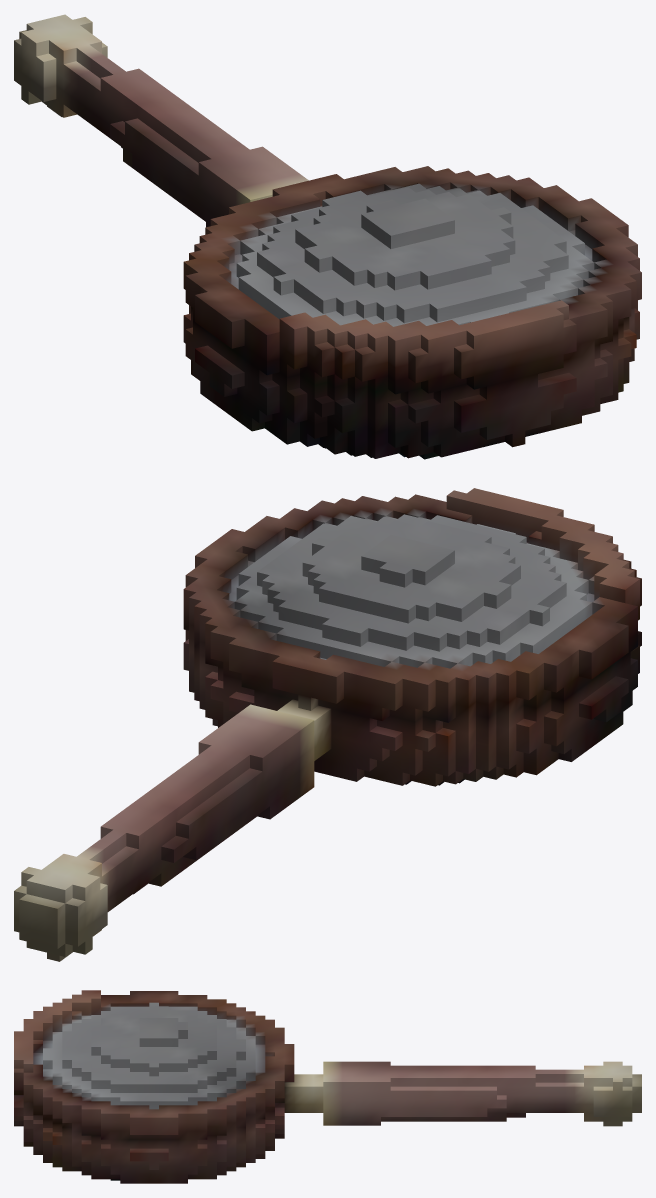
The model's file is magnifyingglass.glb.
3 renders of one model, top to bottom at view 1: azimuth 30°, elevation 25°; view 2: azimuth 150°, elevation 25°; view 3: azimuth 270°, elevation 25°, orthographic. The views are drawn at different scales.
Visible parts, largest first — view 1: world; view 2: world; view 3: world.
Part boxes in pixels (box(x1,y1,x2,y2)): world: box(14, 14, 641, 459); world: box(14, 488, 641, 961); world: box(14, 990, 641, 1183).
Size of the model in its own units: 0.4848 by 0.2189 by 1.02.
